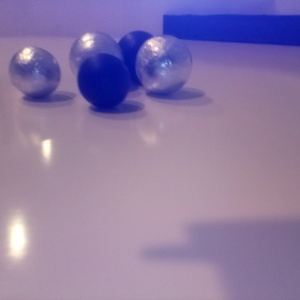alive_ball: (134, 34, 192, 95), (69, 30, 123, 86), (8, 45, 61, 97)
dead_ball: (76, 52, 131, 108), (115, 29, 158, 79)
